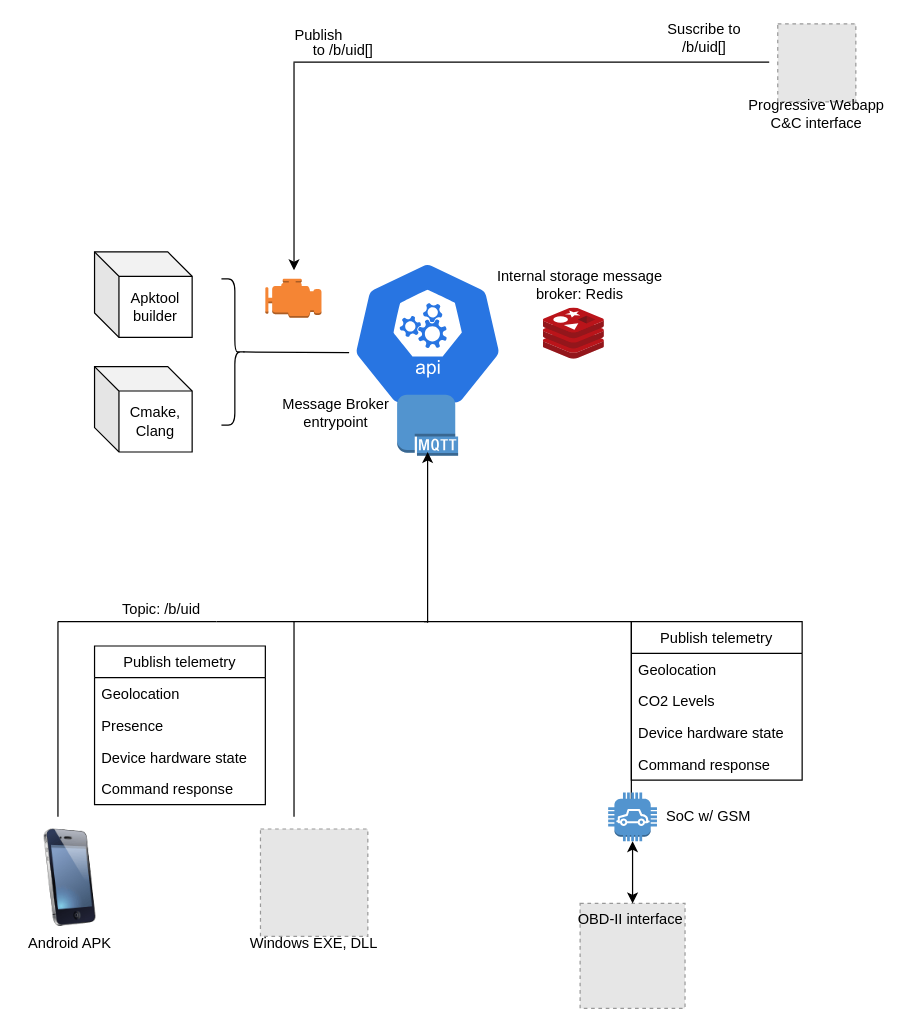
The diagram is 910 pixels wide and 1030 high, and some of its shapes have lost their labels. Grey dashed boxes stand in for pictures. Here are the shapes that lost their labels. From the top down, the box of each, then its label:
(264, 278, 321, 318): Build bot
(396, 393, 458, 456): Mosca
